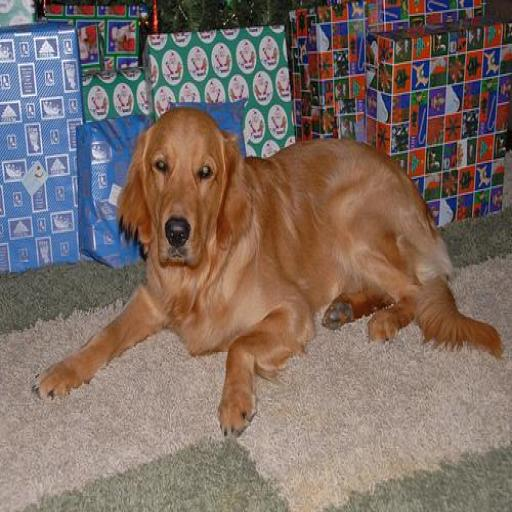dog_face: (124, 114, 242, 263)
